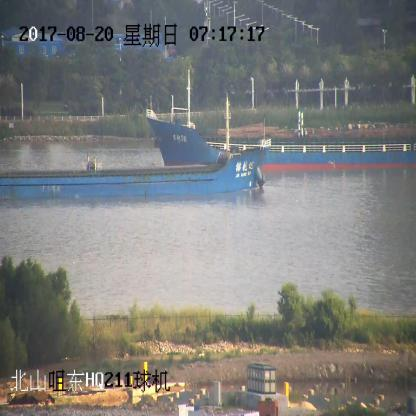Bulk Carrier: (148, 68, 415, 172), (0, 102, 266, 199)
